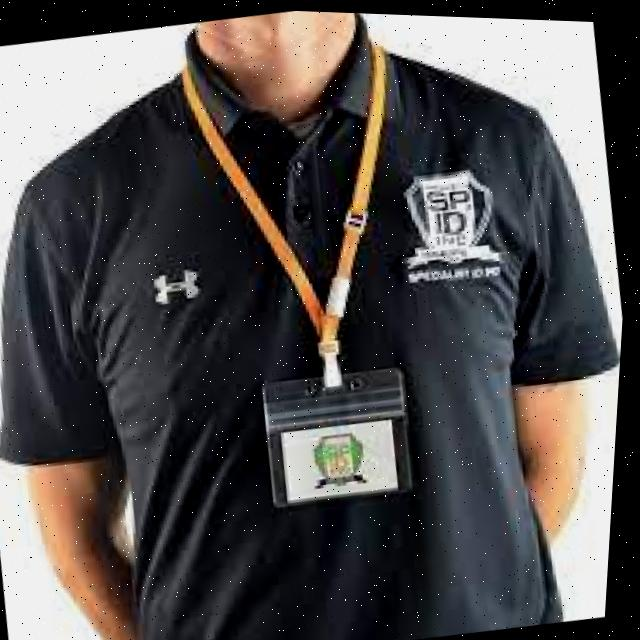id_card: (164, 50, 462, 527)
